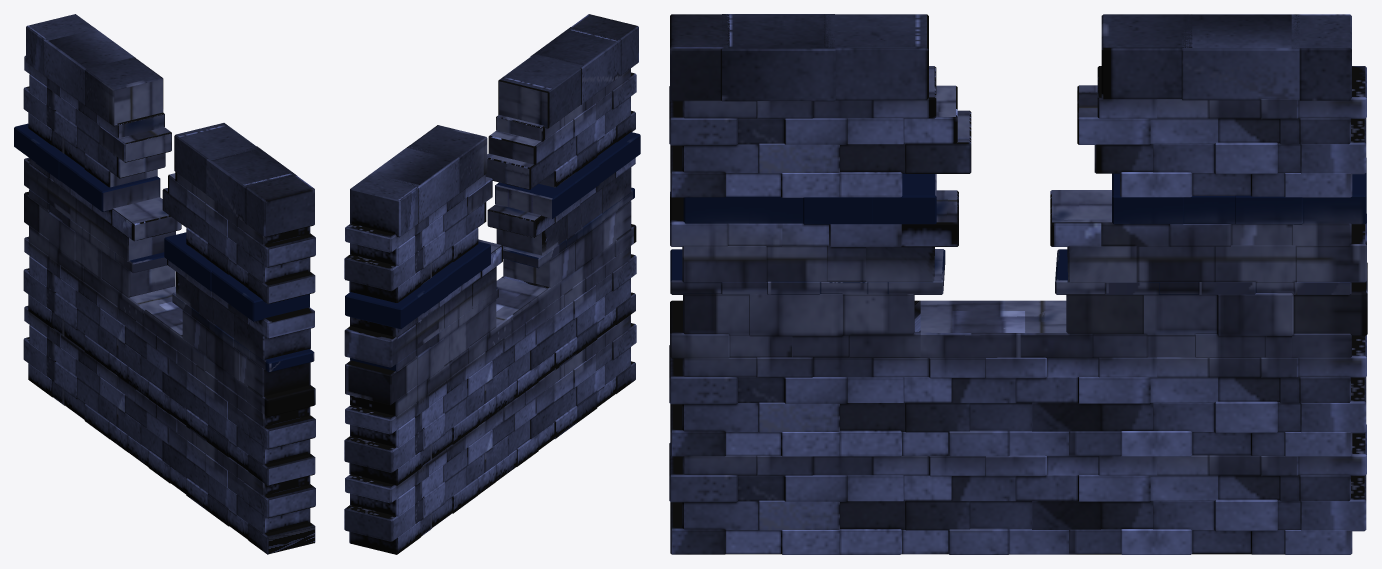
Rendered from Muro_rotoV.2.fbx.
3 renders of one model, left to right at view 1: azimuth 30°, elevation 25°; view 2: azimuth 150°, elevation 25°; view 3: azimuth 270°, elevation 25°, orthographic. The views are drawn at different scales.
Visible parts, largest first — view 1: Muro B; view 2: Muro B; view 3: Muro B.
Boxes of the visible parts, left/top/right/bottom form: Muro B: left=14, top=14, right=315, bottom=554; Muro B: left=344, top=14, right=640, bottom=554; Muro B: left=669, top=14, right=1367, bottom=554.
Bounding box in the file's own units: 287 × 1656 × 2069.
